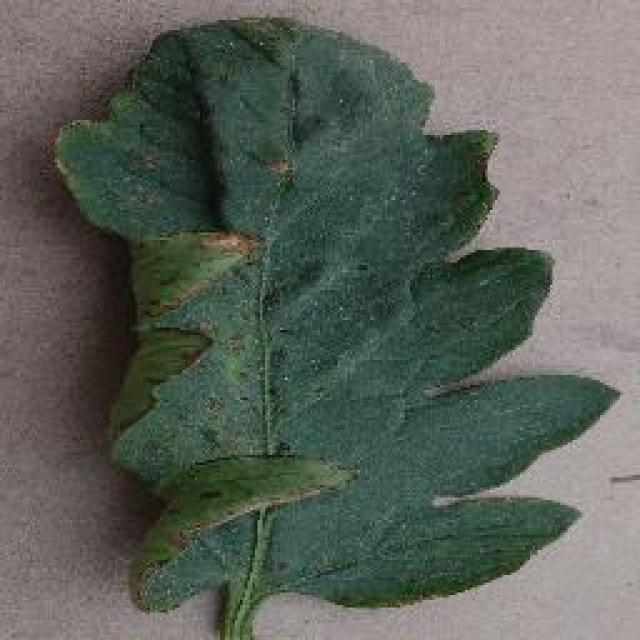Tomato bacterial spot leaf: (53, 39, 595, 606)
